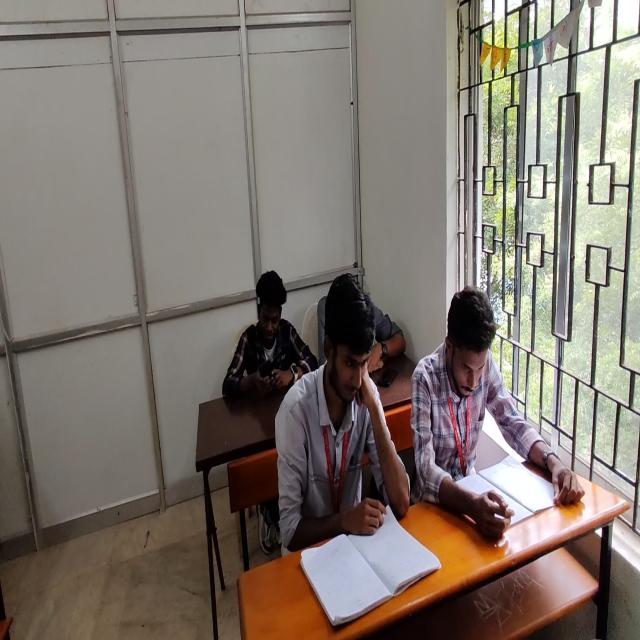reading: (420, 284, 588, 532), (277, 272, 412, 558)
sleeping: (316, 288, 403, 374)
using_mobile: (224, 268, 318, 399)
